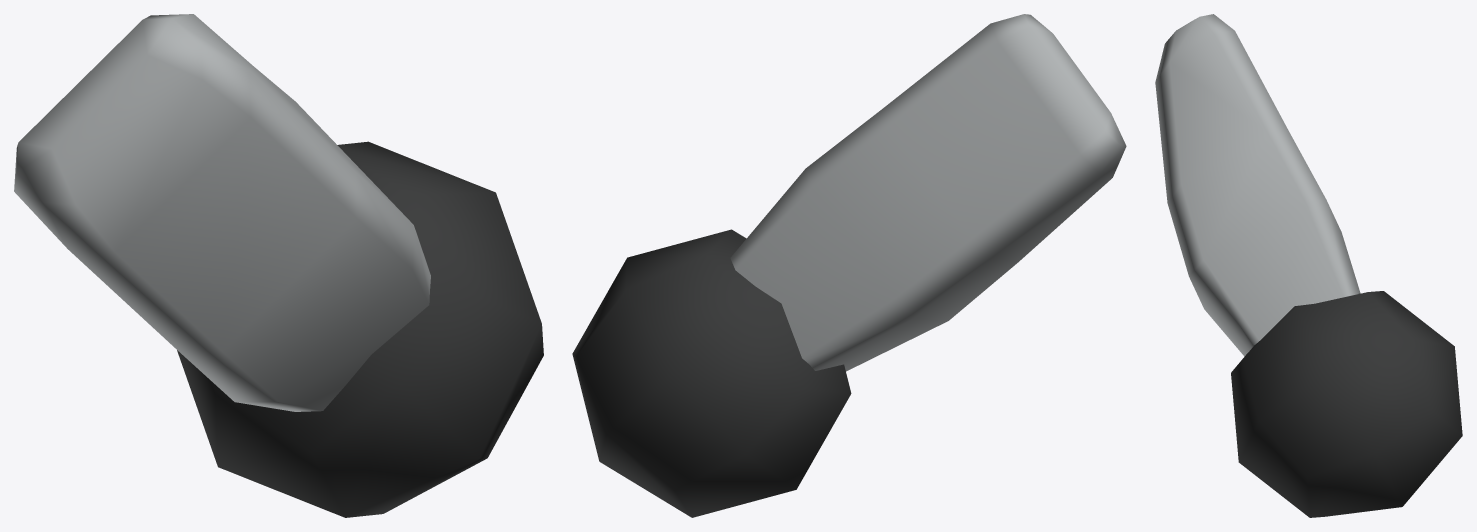
Rendered from Drone_002_R_Finger_004.fbx.
3 renders of one model, left to right at view 1: azimuth 30°, elevation 25°; view 2: azimuth 150°, elevation 25°; view 3: azimuth 270°, elevation 25°, orthographic. The views are drawn at different scales.
Visible parts, largest first — view 1: Drone_002_R_Finger_004; view 2: Drone_002_R_Finger_004; view 3: Drone_002_R_Finger_004.
Part boxes in pixels (left/top/right/bottom): Drone_002_R_Finger_004: left=14, top=14, right=543, bottom=517; Drone_002_R_Finger_004: left=572, top=14, right=1126, bottom=517; Drone_002_R_Finger_004: left=1155, top=14, right=1462, bottom=517.
Bounding box in the file's own units: 4.94 × 3.45 × 5.
